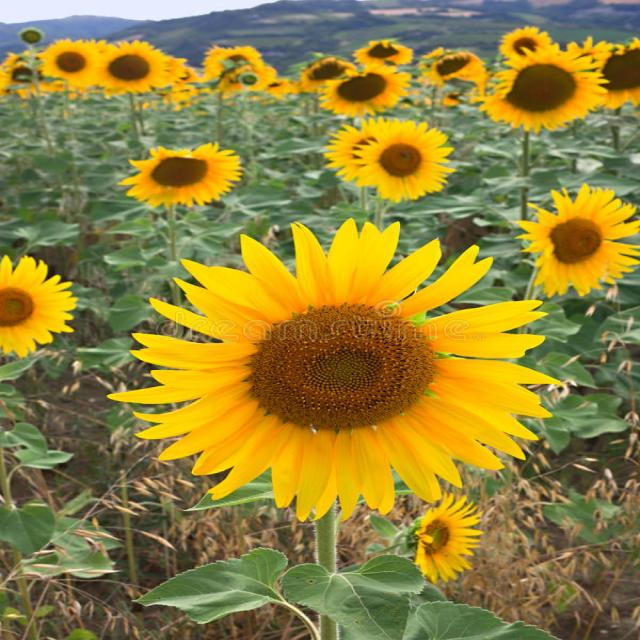sunflower: (124, 211, 564, 526), (517, 178, 640, 300), (476, 50, 609, 133), (337, 113, 457, 201), (3, 252, 84, 365), (114, 143, 248, 204), (413, 494, 485, 588), (310, 60, 417, 121), (80, 36, 160, 86), (38, 32, 100, 88), (422, 51, 487, 83), (300, 50, 350, 86), (356, 37, 414, 66)
